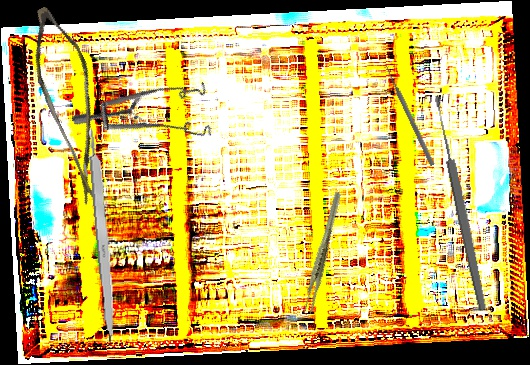Micro Scissor: (2, 0, 142, 209)
Pusher: (382, 62, 436, 167)
Scalpel Handle: (86, 124, 120, 344)
Speculum: (69, 47, 230, 194)
Surgical Spoon: (431, 94, 489, 312)
Tissue Forceps: (282, 190, 364, 317)
